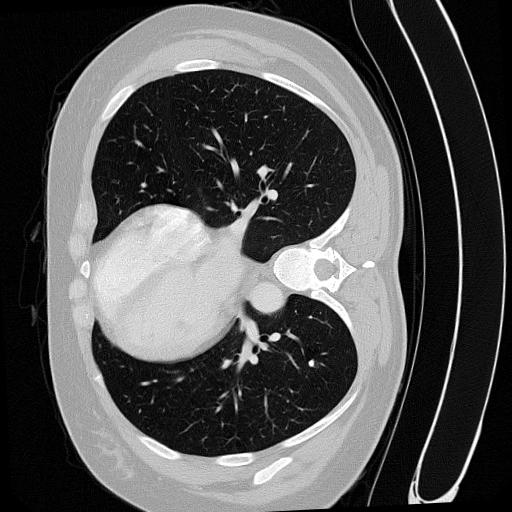nodule: (305, 356, 318, 369)
